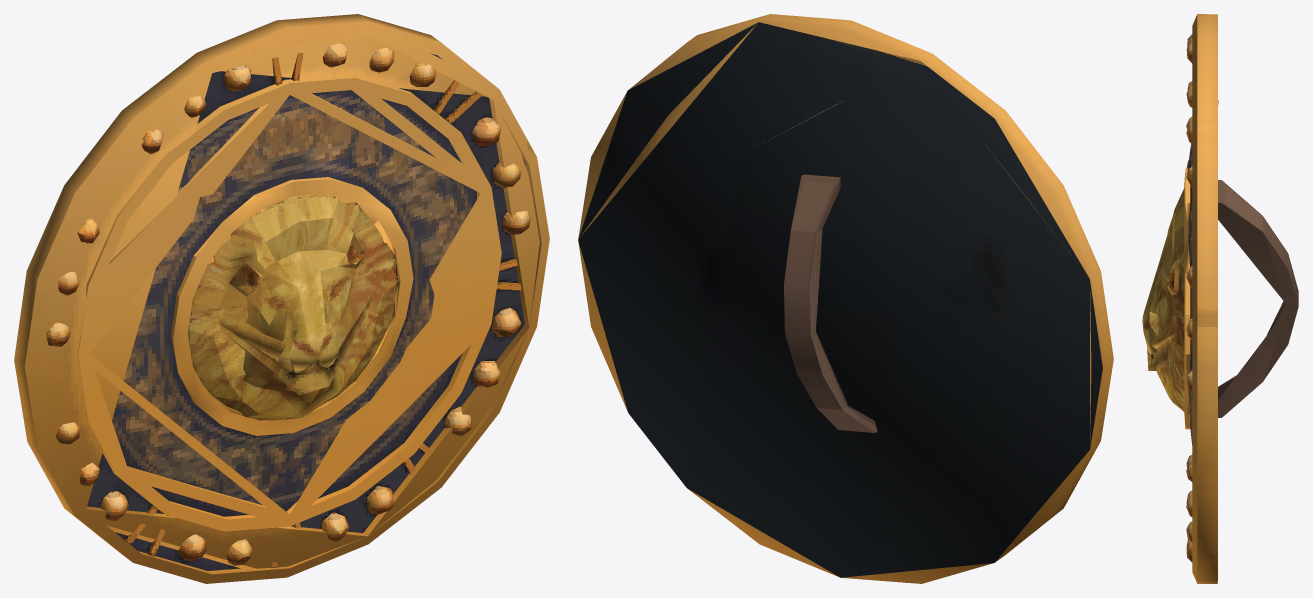
File: item_shield.glb
3 views of the same model, side by side, from view 1: azimuth 30°, elevation 25°; view 2: azimuth 150°, elevation 25°; view 3: azimuth 270°, elevation 25° (orthographic). The views are drawn at different scales.
Visible parts, largest first — view 1: Shield; view 2: Shield; view 3: Shield.
Boxes of the visible parts, left/top/right/bottom form: Shield: left=14, top=14, right=549, bottom=583; Shield: left=578, top=14, right=1113, bottom=583; Shield: left=1142, top=14, right=1298, bottom=583.
Size of the model in its own units: 0.6187 by 0.6187 by 0.1682.
Materials: 1 (1 with a texture image).
